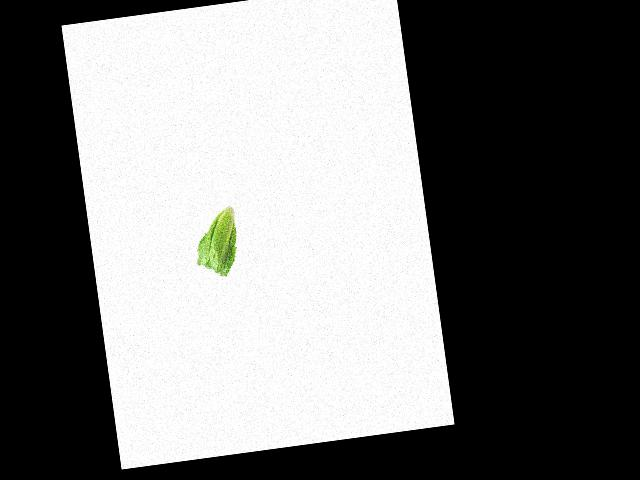lettuce: (188, 199, 243, 280)
